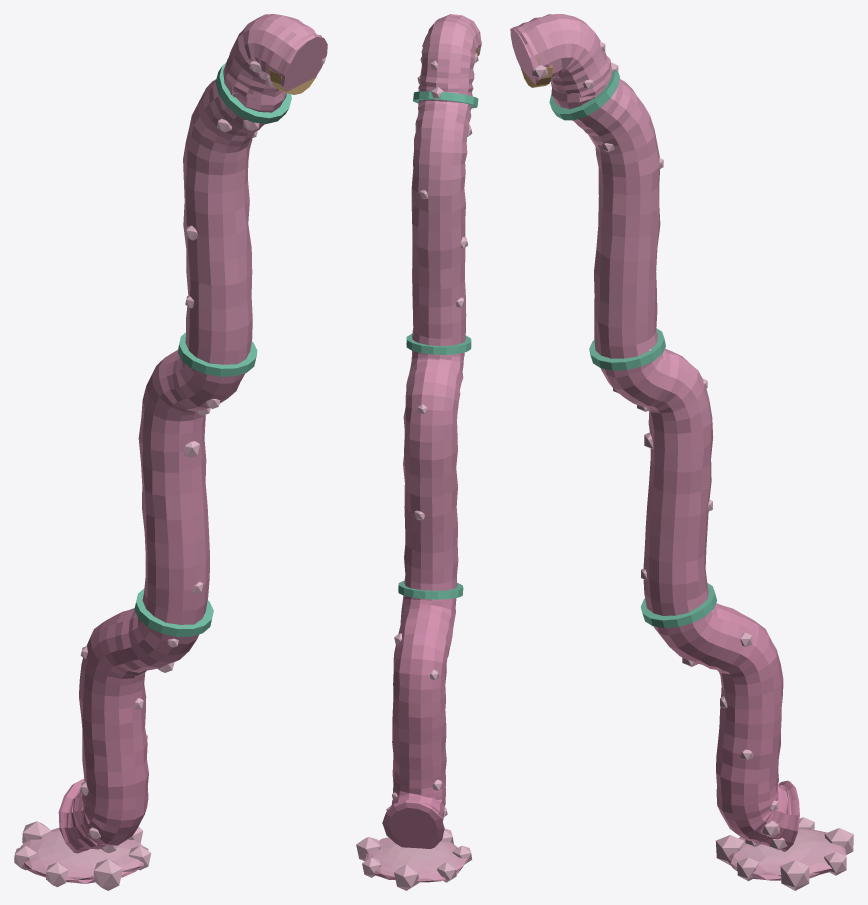
The model's file is goo_drop_tube_goo_4@candy.fbx.
The picture shows the model from 3 angles, left to right: view 1: azimuth 30°, elevation 25°; view 2: azimuth 150°, elevation 25°; view 3: azimuth 270°, elevation 25°; orthographic projection. The views are drawn at different scales.
Visible parts, largest first — view 1: goo_drop_tube_goo_4; view 2: goo_drop_tube_goo_4; view 3: goo_drop_tube_goo_4.
Part boxes in pixels (box(x1,y1,x2,y2)): goo_drop_tube_goo_4: box(14, 14, 327, 890); goo_drop_tube_goo_4: box(356, 14, 481, 890); goo_drop_tube_goo_4: box(510, 14, 853, 890).
Bounding box in the file's own units: 10.64 × 53.69 × 18.84.
